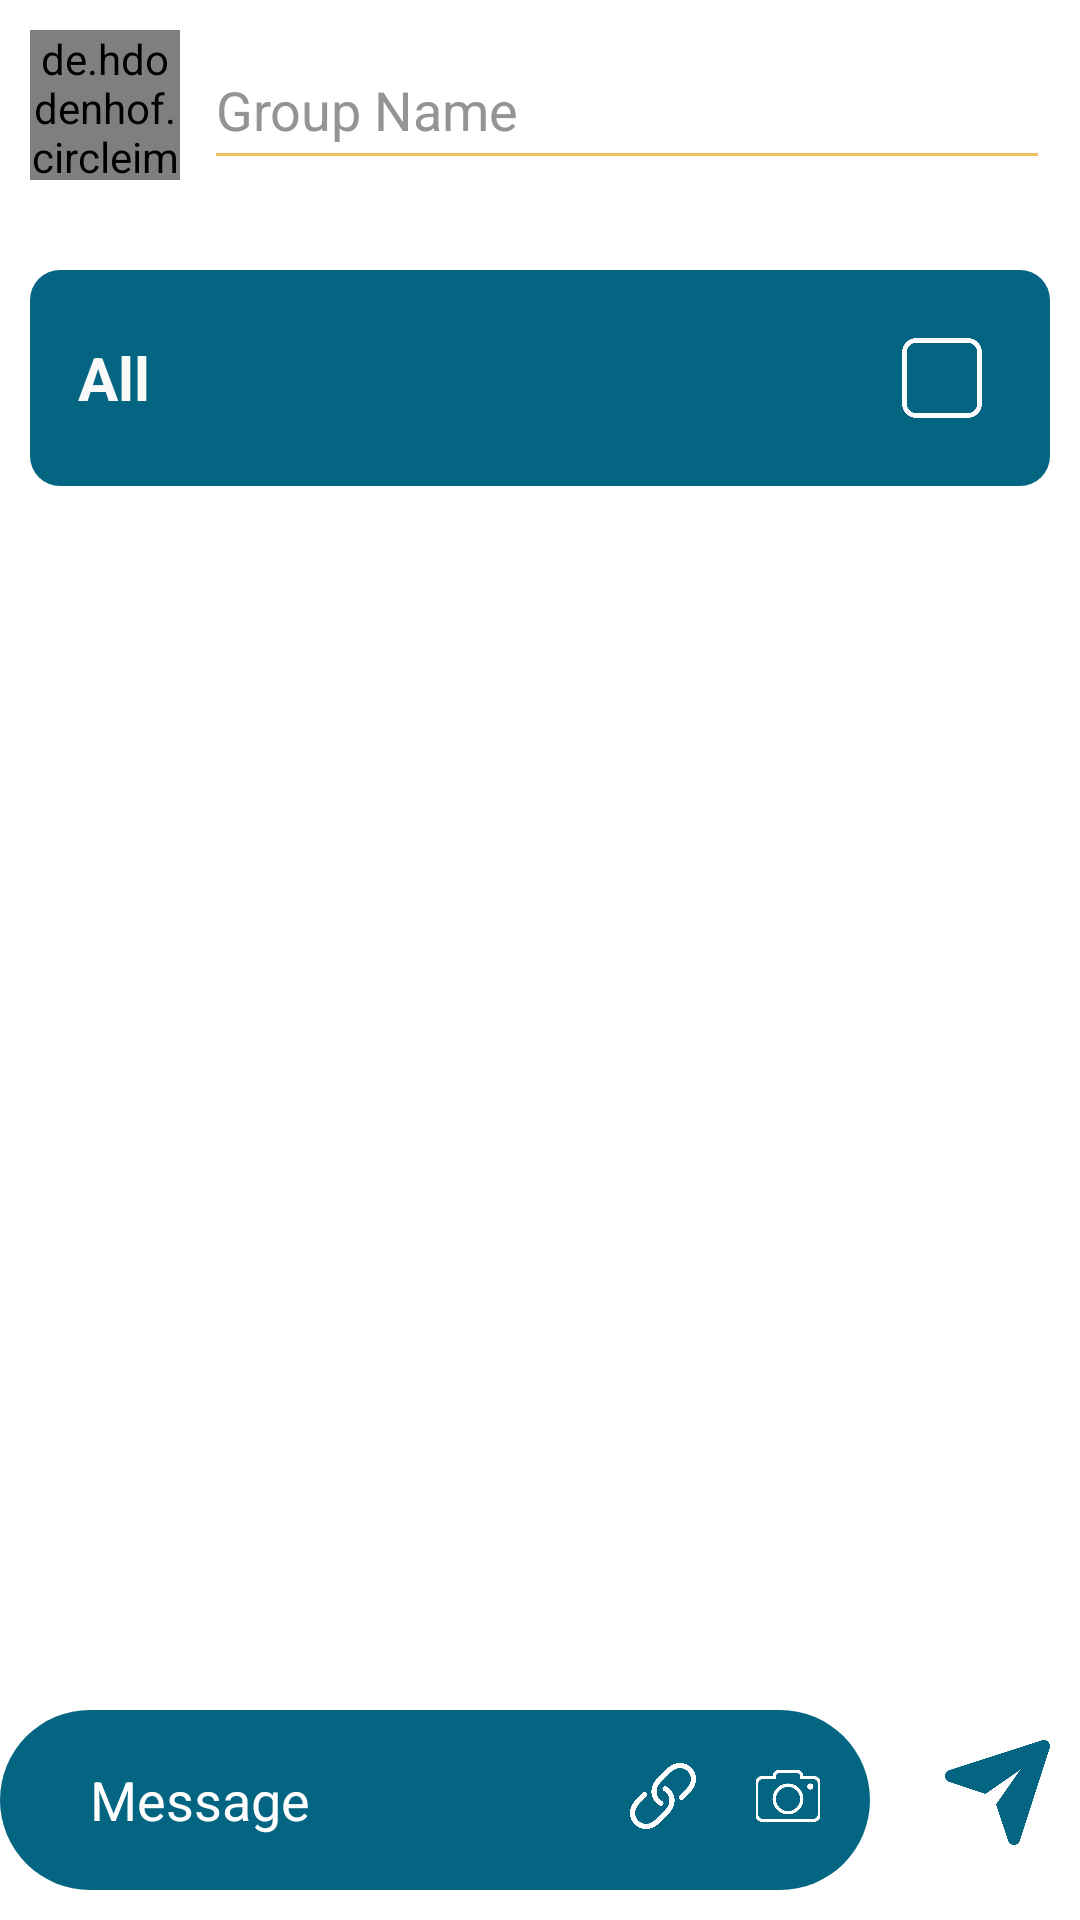

Icons on this 1080w x 1920h Android screen, each with the point to tap as (x,y):
camera: (788,1796)
send: (997,1792)
uncheck wite checkbox: (942,378)
